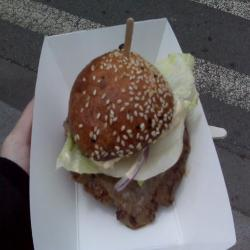burger: (53, 48, 200, 216)
